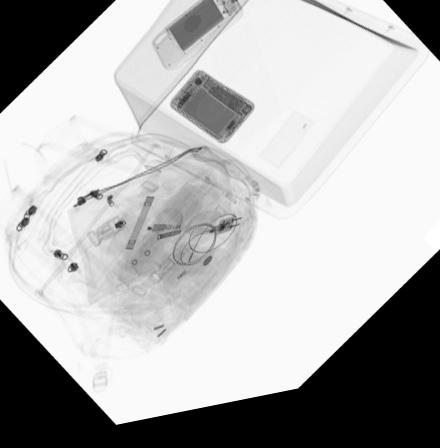Powerbank: (163, 0, 241, 63)
